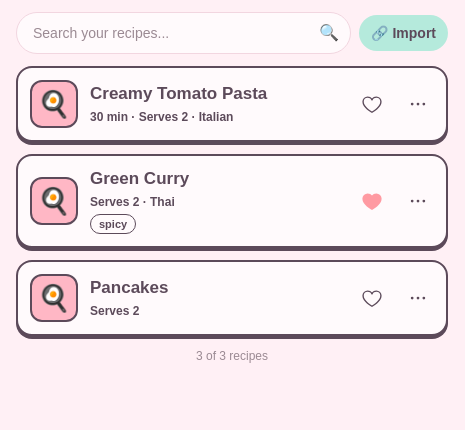
Scenario: Recipes tab list (issue #801) › favourite › puts the heart back and says so when the save fails
Click the button named "Favorite: Creamy Tomato Pasta": (372, 104) x1=350 y1=82 x2=394 y2=126
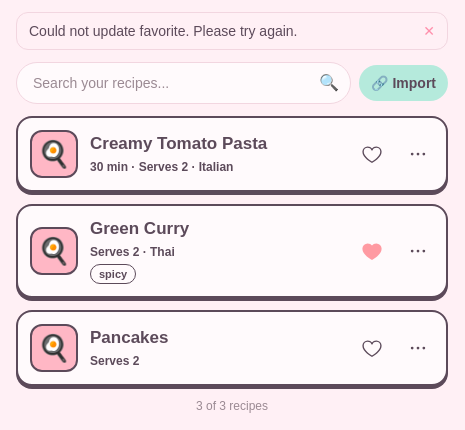
Expected: the button named "Favorite: Creamy Tomato Pasta" is shown, x1=350 y1=132 x2=394 y2=176
Expected: the message shows "Could not update favorite", x1=29 y1=23 x2=298 y2=39
